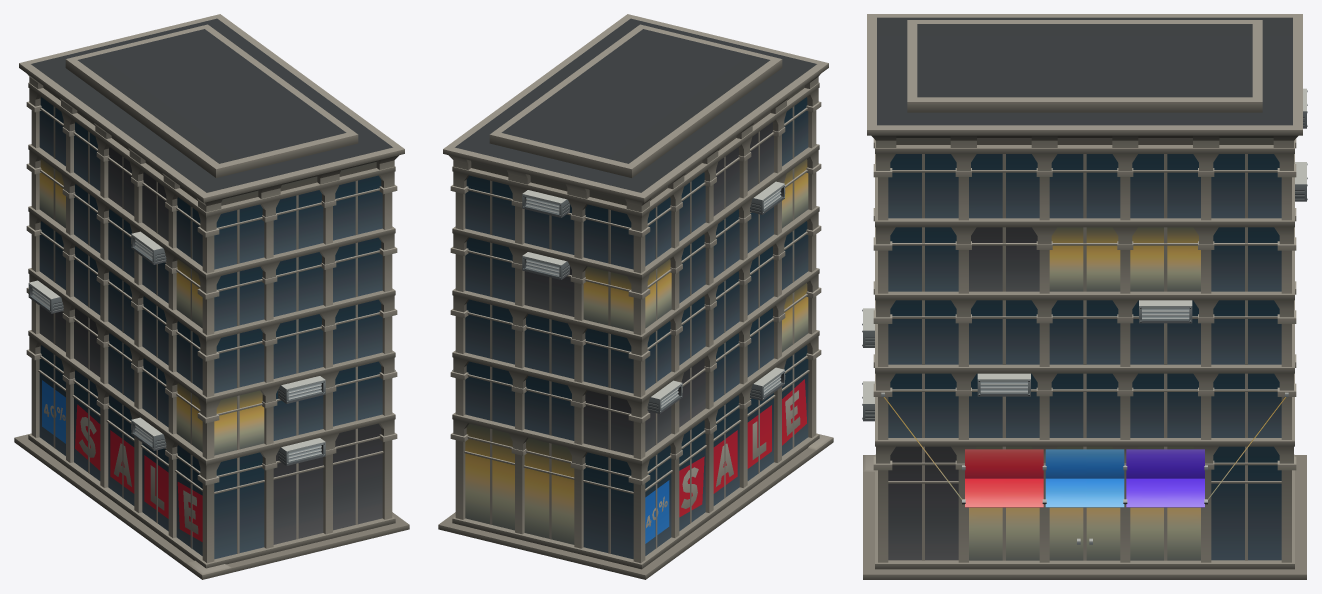
File: Building_11A.fbx
3 renders of one model, left to right at view 1: azimuth 30°, elevation 25°; view 2: azimuth 150°, elevation 25°; view 3: azimuth 270°, elevation 25°, orthographic. The views are drawn at different scales.
Parts seen in each view (by area): view 1: Building_11A, Window_Lights_11A, Branding_11A, Air_Conditioner_11A; view 2: Building_11A, Window_Lights_11A, Branding_11A, Air_Conditioner_11A; view 3: Building_11A, Window_Lights_11A, Branding_11A, Air_Conditioner_11A.
Boxes of the visible parts, left/top/right/bottom form: Building_11A: left=14, top=14, right=409, bottom=579; Window_Lights_11A: left=39, top=159, right=264, bottom=455; Branding_11A: left=42, top=369, right=395, bottom=541; Air_Conditioner_11A: left=28, top=231, right=325, bottom=465; Building_11A: left=438, top=14, right=833, bottom=579; Window_Lights_11A: left=465, top=159, right=808, bottom=544; Branding_11A: left=452, top=369, right=806, bottom=543; Air_Conditioner_11A: left=522, top=181, right=784, bottom=413; Building_11A: left=863, top=14, right=1306, bottom=579; Window_Lights_11A: left=969, top=227, right=1200, bottom=560; Branding_11A: left=881, top=392, right=1288, bottom=507; Air_Conditioner_11A: left=862, top=88, right=1307, bottom=421.
Size of the model in its own units: 1474 by 2513 by 2208.
